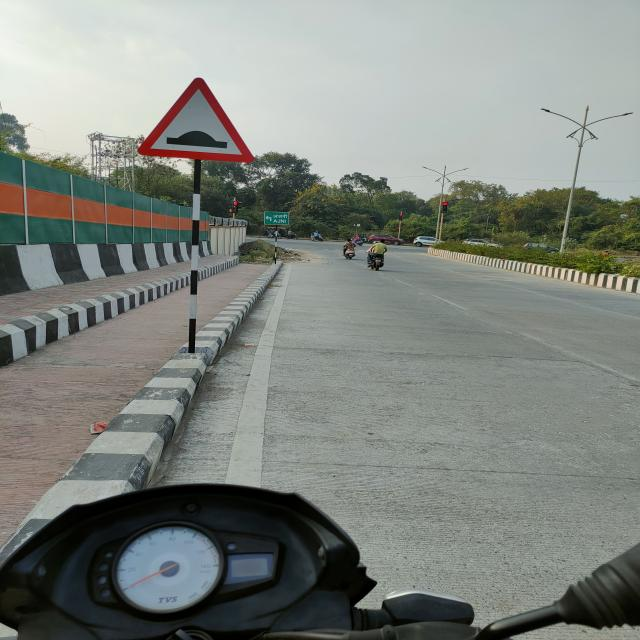HUMP_OR_ROUGH_ROAD: (137, 78, 254, 163)
